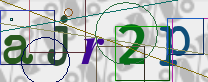2: (117, 23, 145, 66)
a: (3, 33, 34, 66)
j: (46, 14, 68, 67)
p: (158, 24, 191, 67)
r: (81, 37, 105, 65)
